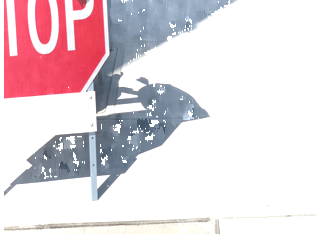Obstacle: (4, 1, 111, 202)
